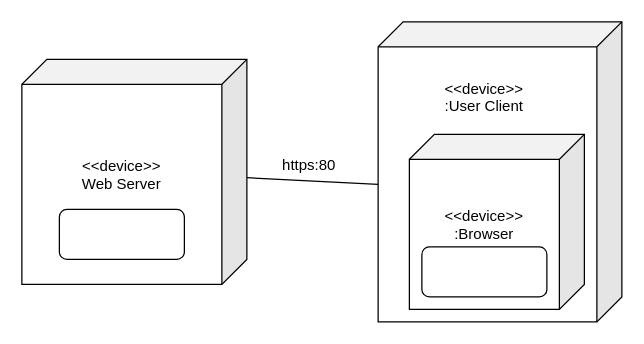
This 644x344 diagram has some shape labels left out. The centre of each missing label's shape, as x and y in pixels:
"<<artifact>> Website Backend" goes at (121,233).
"<<artifact>> Website Frontend" goes at (484,271).
